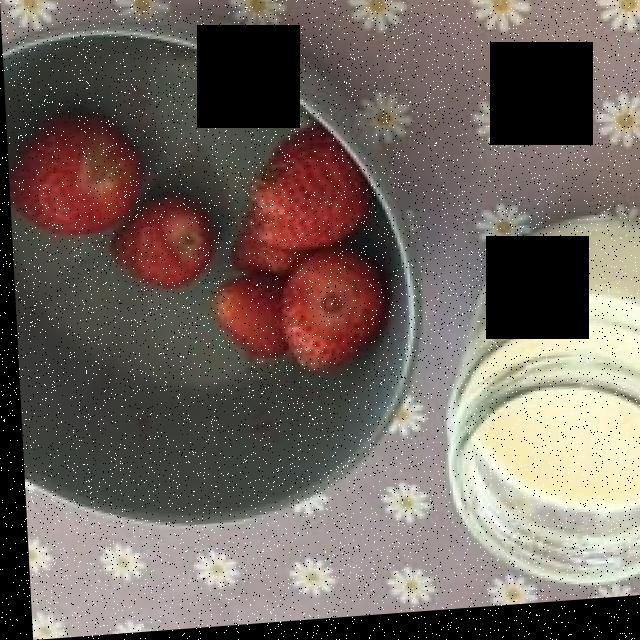strawberries: (21, 113, 379, 377)
yogurt: (449, 229, 640, 521)
